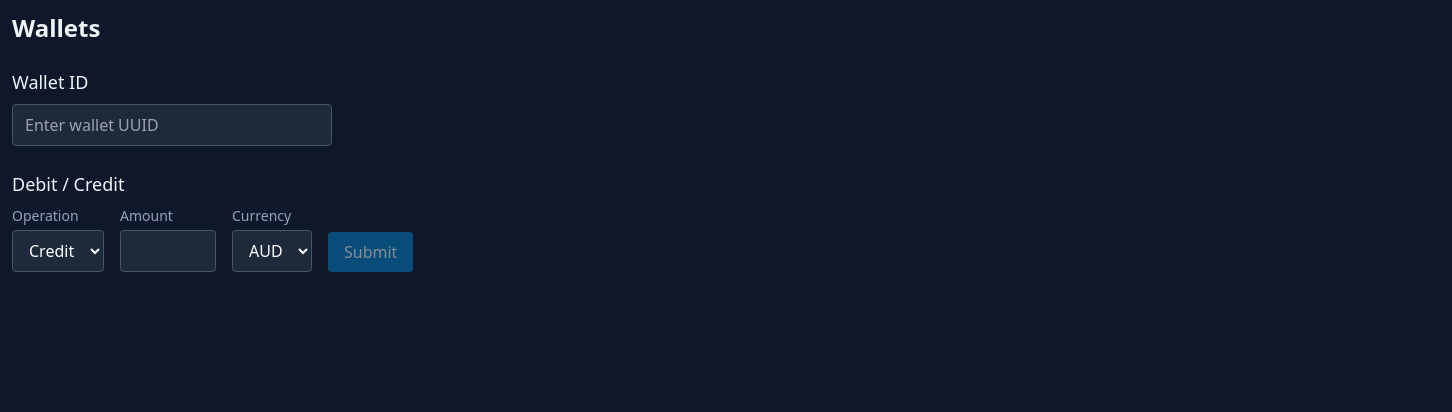
Test: WalletsPage › renders balance and daily limit after successful operation
In the field with placeholder "Enter wallet UUID": (172,125) [12, 104, 332, 146], type "w1"
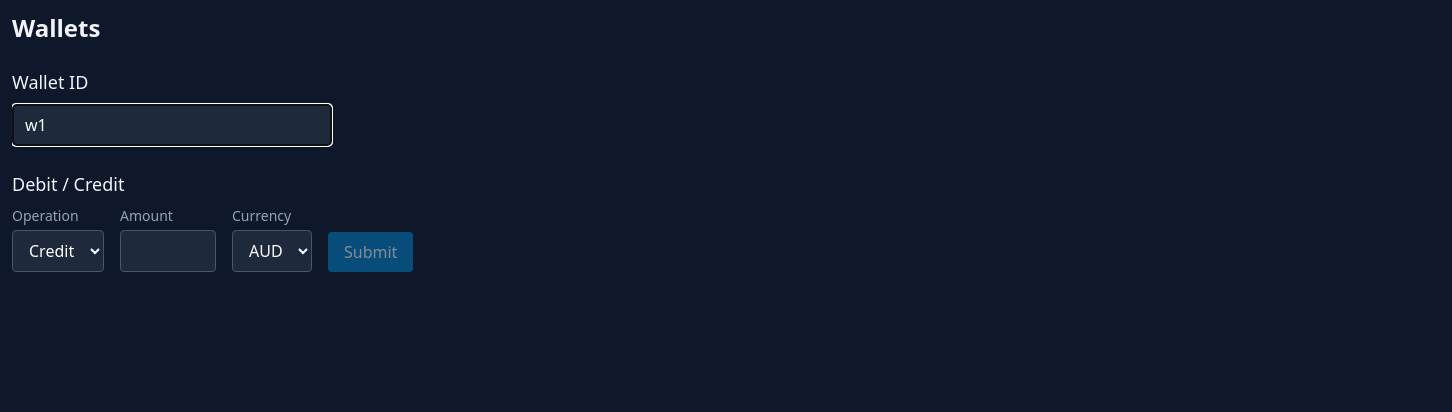
In the number field: (168,251) [120, 230, 216, 272], type "50"
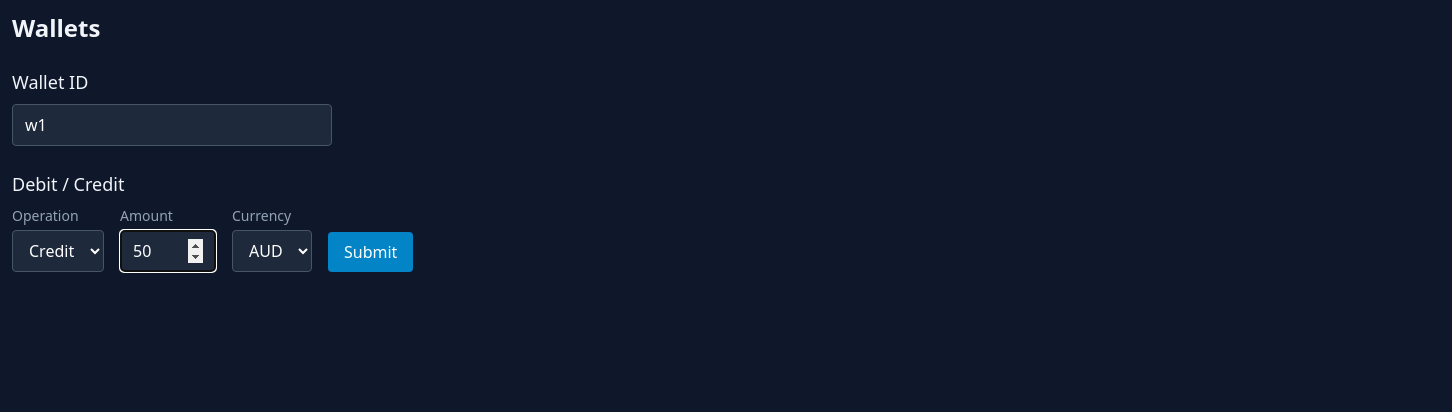
Click the button "Submit": (371,252) [328, 232, 413, 272]
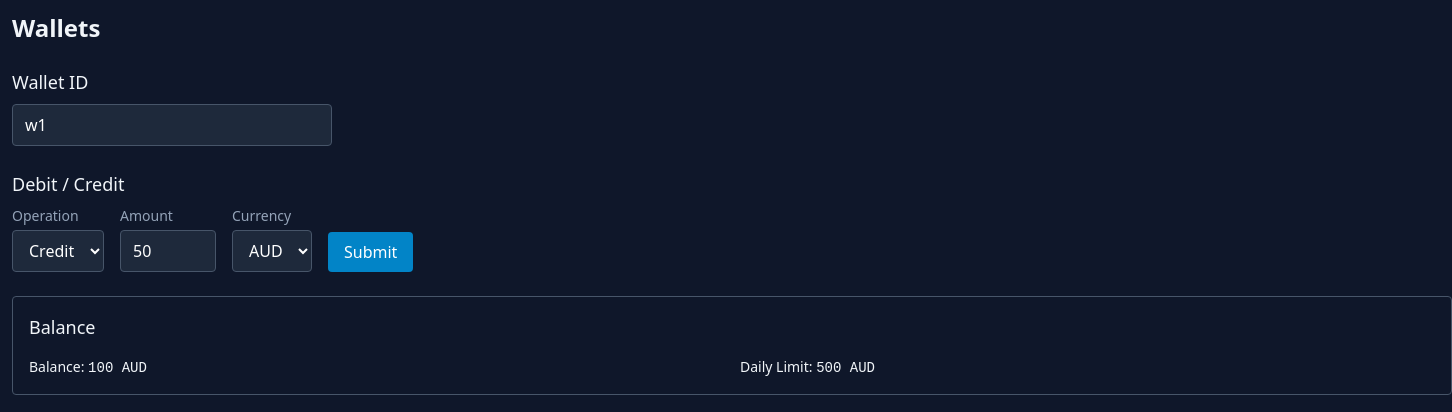
Now the text "100 AUD" is shown, box [88, 360, 147, 376]
Now the text "500 AUD" is shown, box [816, 360, 875, 376]
